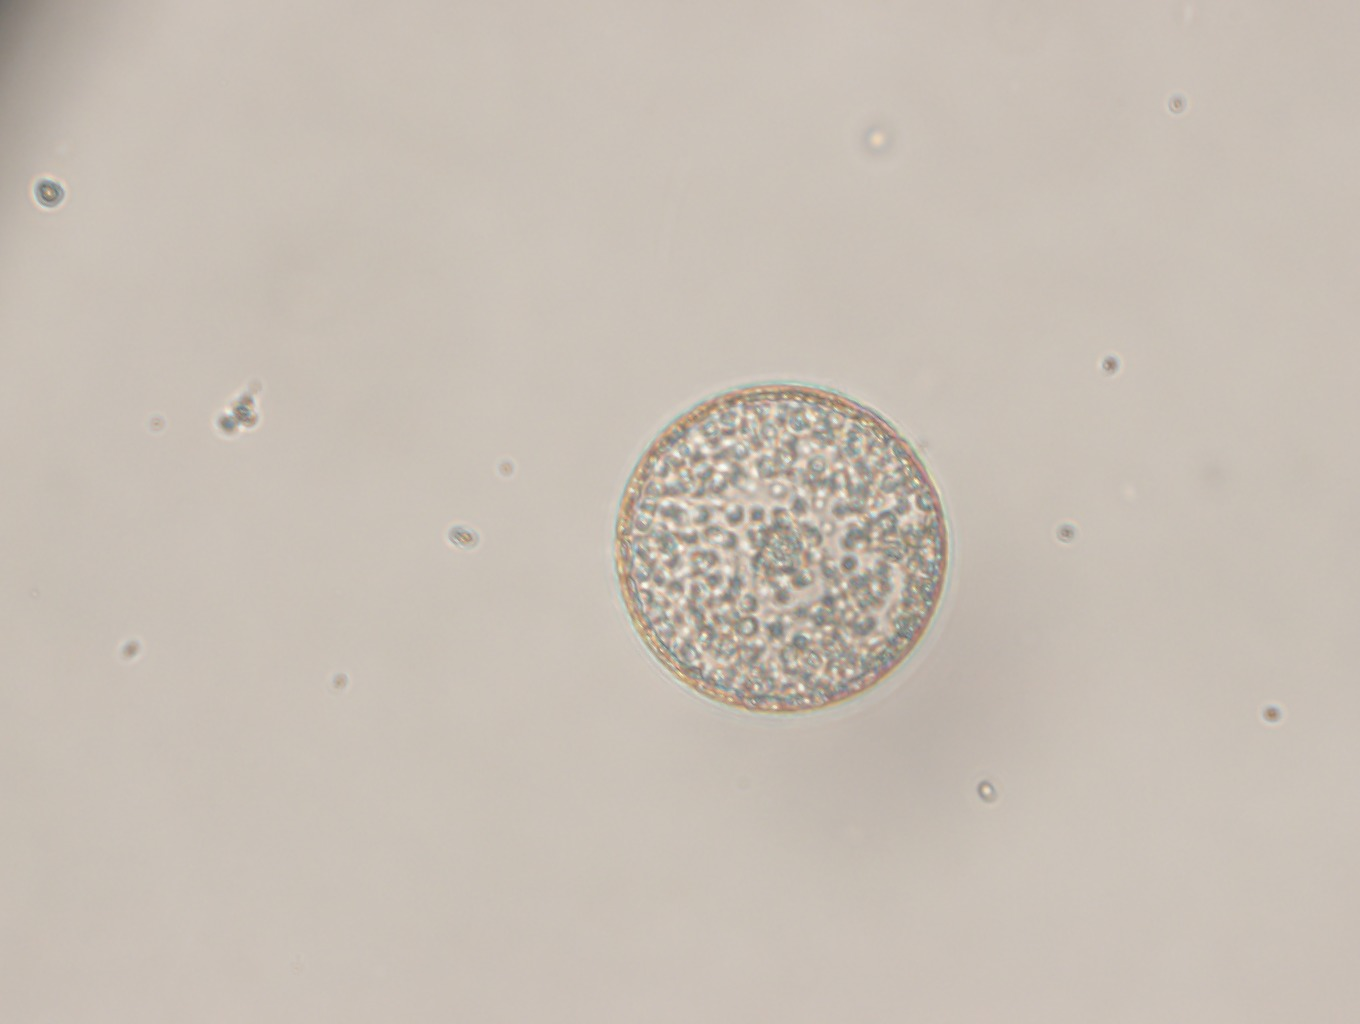coscinodiscus: (607, 372, 957, 717)
